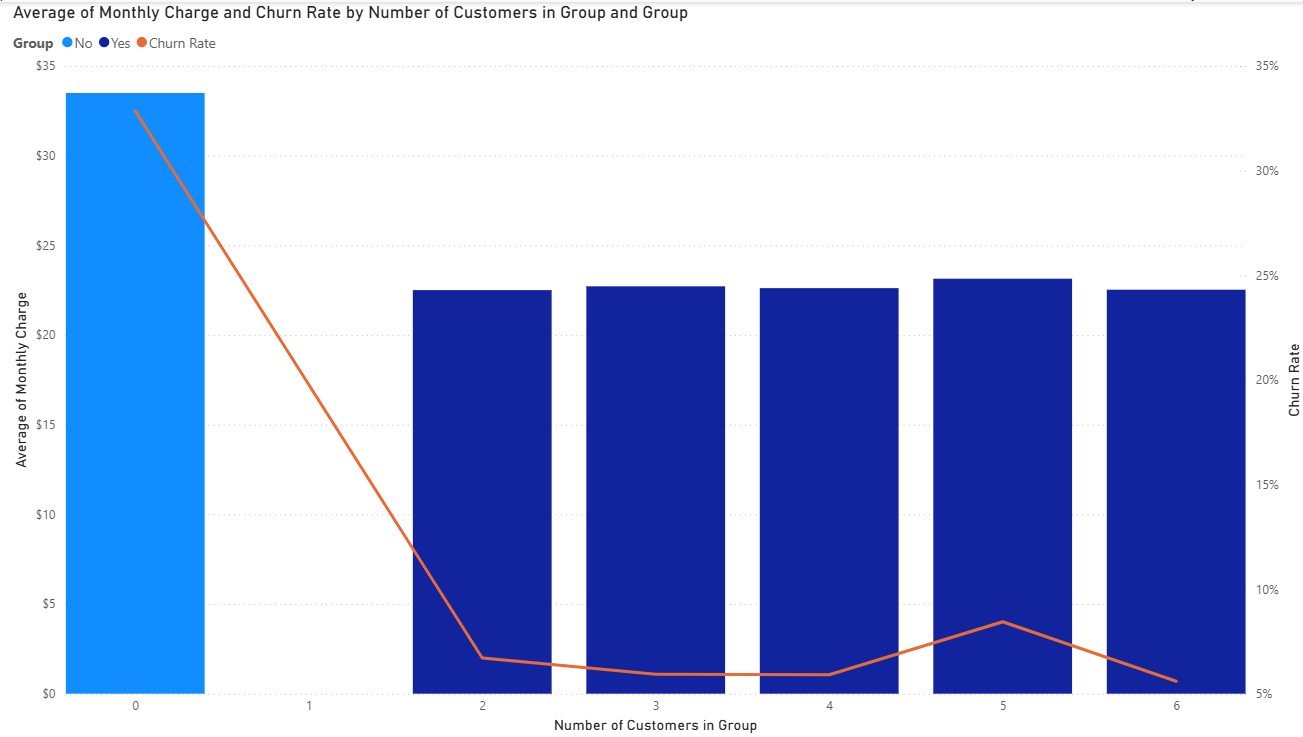

Layout of this report page (visuals, bound fields, positions):
{"tool":"powerbi","page":{"name":"Inspecting Groups","canvas":[1280,720],"ordinal":5},"visuals":[{"type":"lineStackedColumnComboChart","fields":{"Category":["Databel - Data.Number of Customers in Group"],"Y":["Avg(Databel - Data.Monthly Charge)"],"Series":["Databel - Data.Group"],"Y2":["Databel - Data.Churn Rate"]},"box":[9.6,0,1270.7,720.4],"z":0}]}

Visuals, with their boxes in screenshot pixels (x1, y1, x2, y2), scaled from the page's 1280x720 canvas onto the 1303x737 screenshot:
lineStackedColumnComboChart - Databel - Data.Number of Customers in Group x Avg(Databel - Data.Monthly Charge): l=10, t=0, r=1302, b=736
